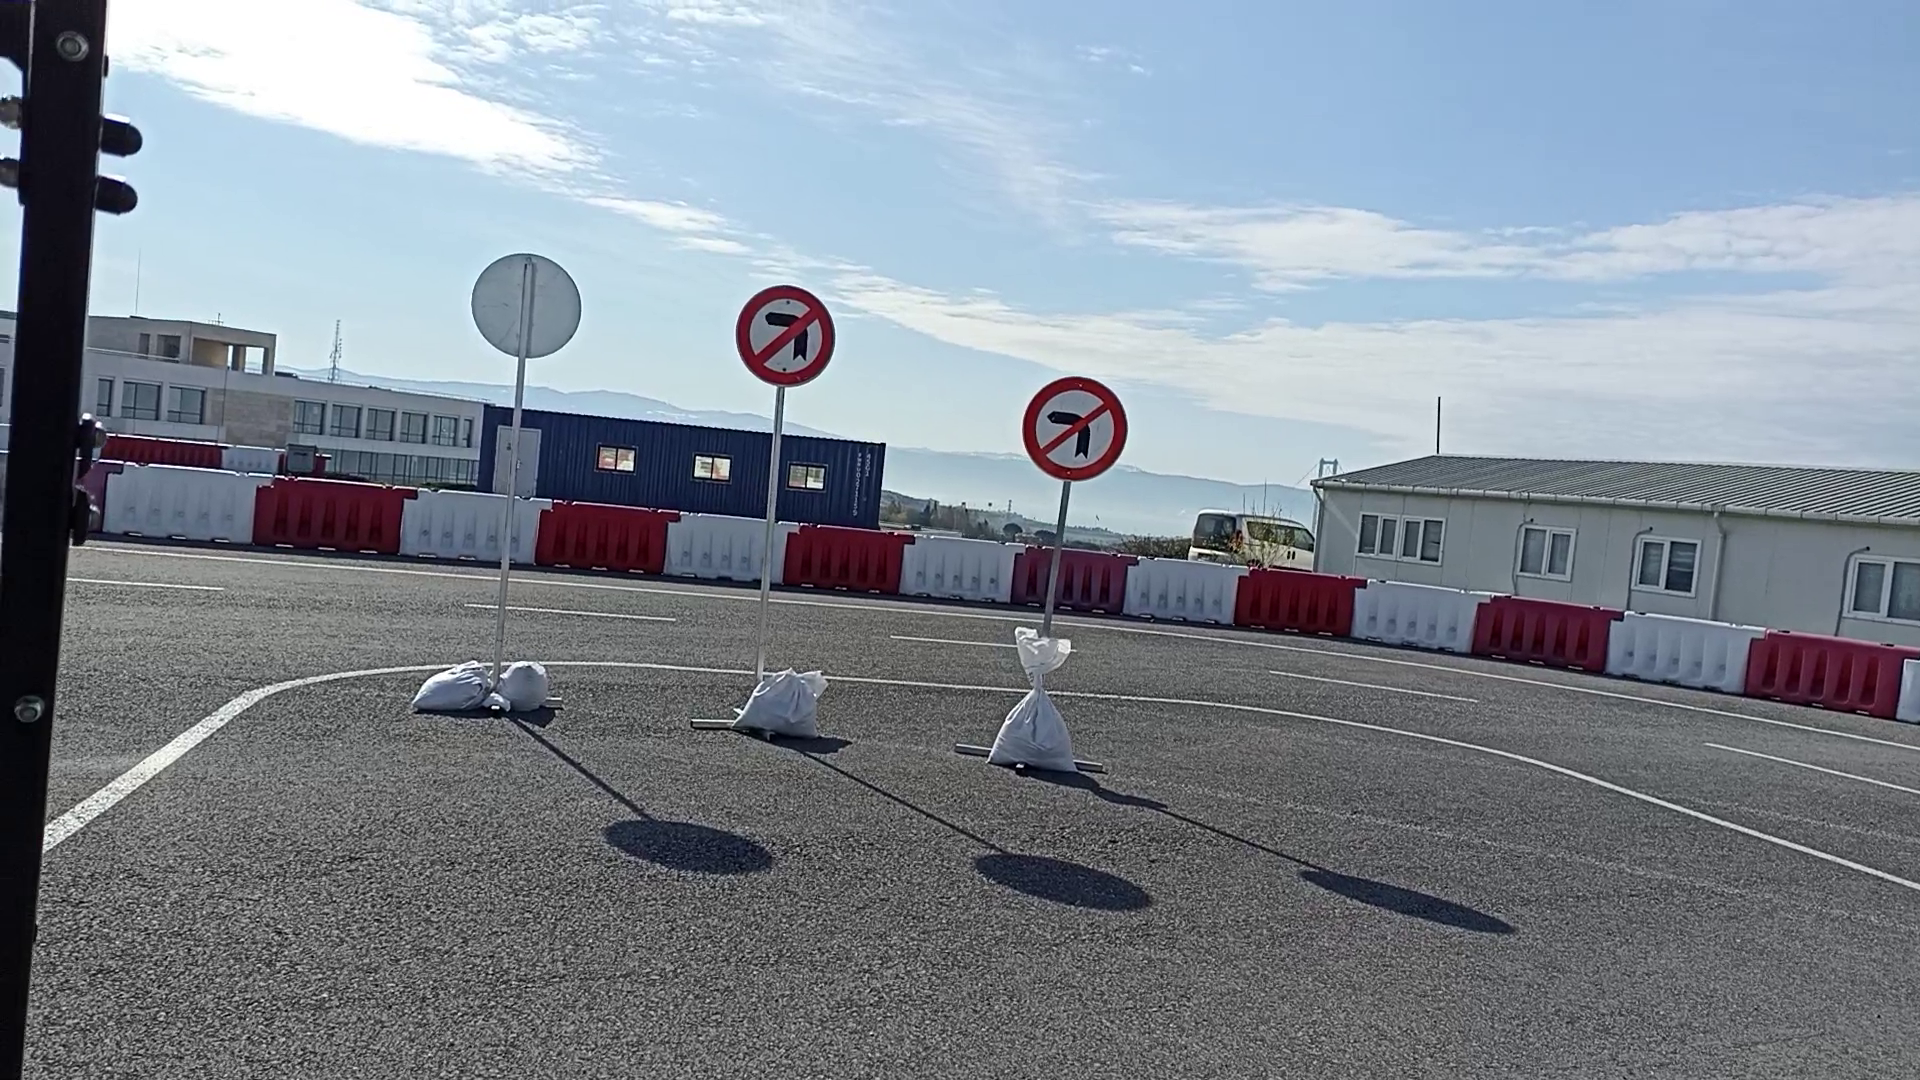noleft: (1019, 375, 1131, 485), (733, 284, 837, 386)
